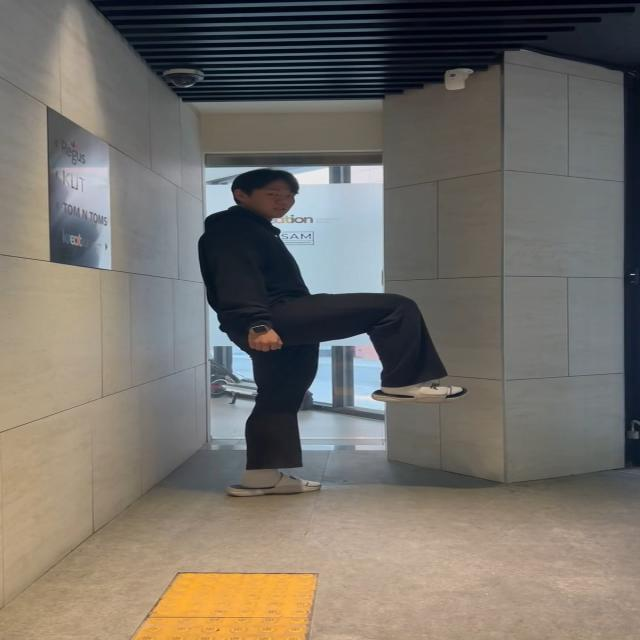knee: (285, 284, 463, 425)
